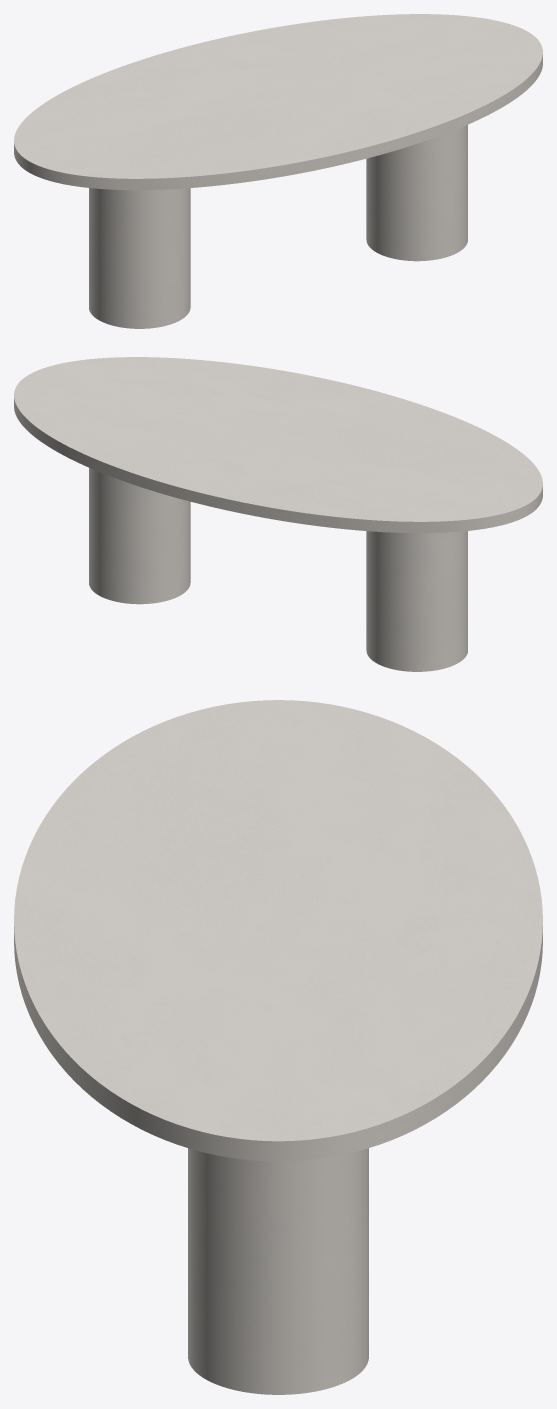
File: pearlwhite_ellips_standard_stream.glb
3 views of the same model, one above another, from view 1: azimuth 30°, elevation 25°; view 2: azimuth 150°, elevation 25°; view 3: azimuth 270°, elevation 25° (orthographic). The views are drawn at different scales.
Parts seen in each view (by area): view 1: standard_ellips, stream; view 2: standard_ellips, stream; view 3: standard_ellips, stream.
Part boxes in pixels (x1=…): standard_ellips: x1=14, y1=14, x2=542, y2=190; stream: x1=89, y1=125, x2=467, y2=328; standard_ellips: x1=14, y1=357, x2=542, y2=533; stream: x1=89, y1=468, x2=467, y2=671; standard_ellips: x1=14, y1=700, x2=542, y2=1161; stream: x1=188, y1=1148, x2=368, y2=1394.
Bounding box in the file's own units: 7.5 × 2.5 × 3.8.
1 material, 1 textured.
